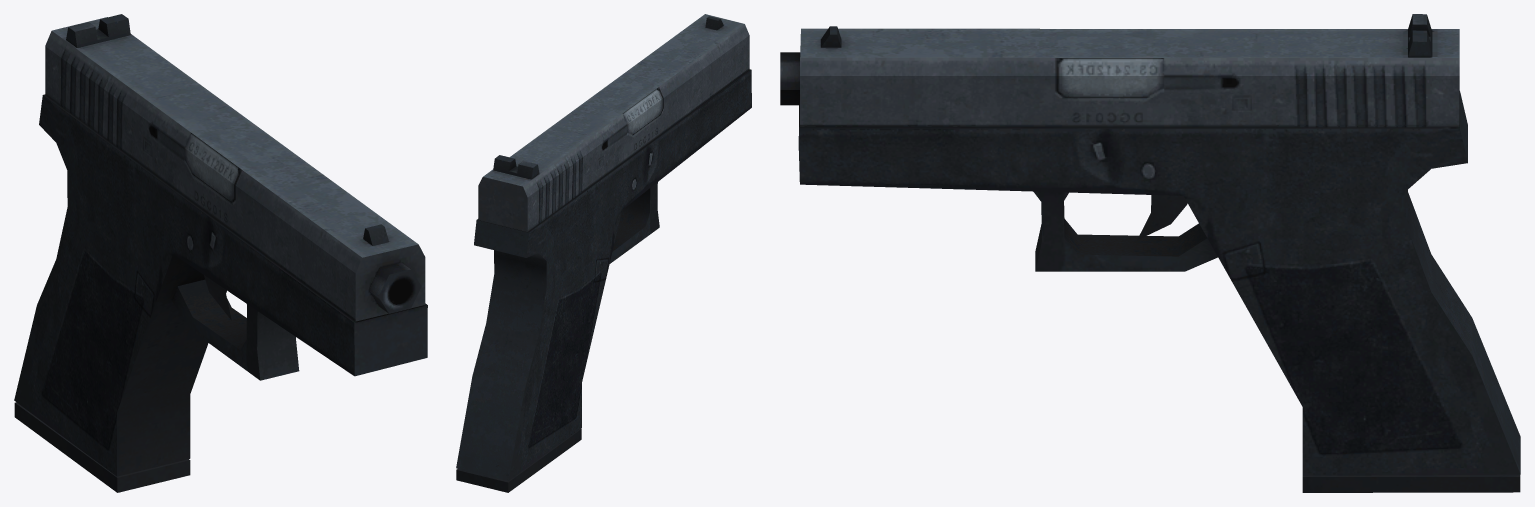
The model's file is cs-weapon-glock18-counter-strike-source.glb.
The picture shows the model from 3 angles, left to right: view 1: azimuth 30°, elevation 25°; view 2: azimuth 150°, elevation 25°; view 3: azimuth 270°, elevation 25°; orthographic projection. The views are drawn at different scales.
Bounding box in the file's own units: 1.11 × 6.1 × 9.18.
Materials: 1 (1 with a texture image).
